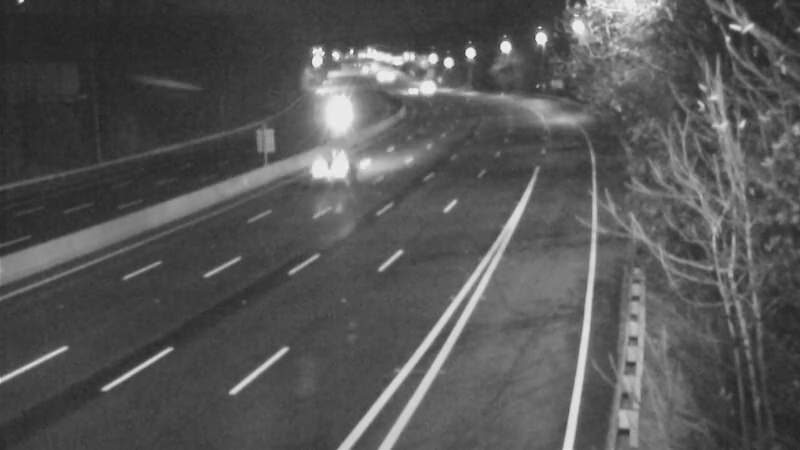vehicle: (288, 131, 368, 211), (401, 62, 451, 112), (380, 62, 430, 112), (311, 85, 361, 135)
